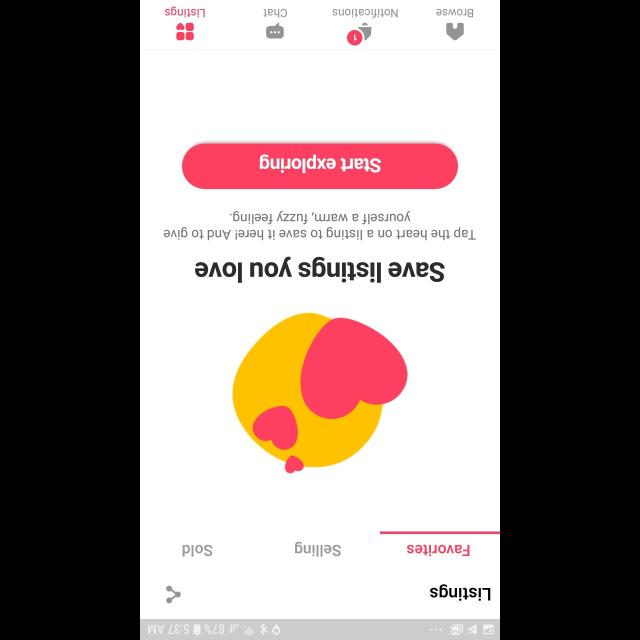icon: (346, 22, 372, 46), (176, 22, 194, 40), (446, 23, 464, 41), (266, 23, 284, 39), (166, 584, 180, 604)
image: (232, 312, 408, 473)
text: (164, 211, 476, 241), (195, 256, 445, 284), (430, 584, 490, 600), (406, 544, 469, 556), (295, 541, 341, 557), (332, 9, 398, 19), (165, 6, 205, 18), (182, 544, 214, 556), (436, 8, 472, 18), (263, 8, 287, 18)
textbutton: (182, 143, 458, 189)
uppertaskbar: (140, 618, 500, 640)
